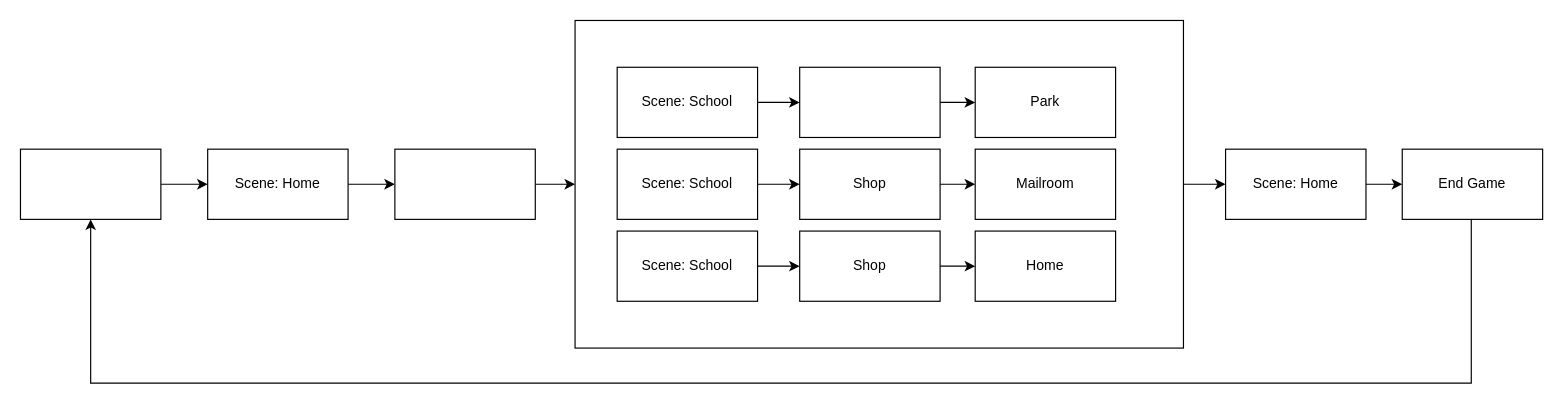
This 1563x413 diagram has some shape labels left out. The centre of each missing label's shape, as x and y in pixels:
Archives: point 869,101
Scene: Park: point 464,183
Start Game: point 90,183
